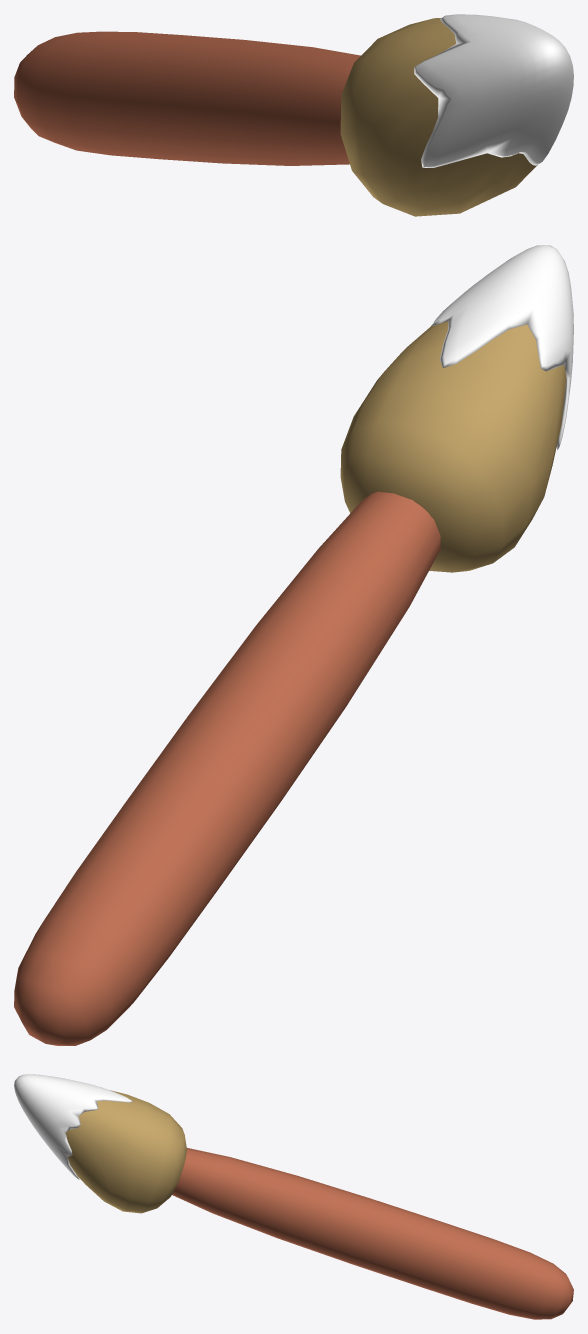
The model's file is paintbrush.fbx.
3 views of the same model, one above another, from view 1: azimuth 30°, elevation 25°; view 2: azimuth 150°, elevation 25°; view 3: azimuth 270°, elevation 25° (orthographic). The views are drawn at different scales.
Visible parts, largest first — view 1: brush_handle, brush_tip_001, brush_paint; view 2: brush_handle, brush_tip_001, brush_paint; view 3: brush_handle, brush_tip_001, brush_paint.
Boxes of the visible parts, left/top/right/bottom form: brush_handle: left=14, top=31, right=360, bottom=165; brush_tip_001: left=340, top=18, right=537, bottom=216; brush_paint: left=414, top=14, right=573, bottom=167; brush_handle: left=14, top=491, right=440, bottom=1045; brush_tip_001: left=340, top=321, right=566, bottom=572; brush_paint: left=431, top=245, right=573, bottom=450; brush_handle: left=172, top=1148, right=573, bottom=1319; brush_tip_001: left=65, top=1090, right=186, bottom=1213; brush_paint: left=14, top=1074, right=133, bottom=1179.
Size of the model in its own units: 18.96 by 45.77 by 96.34.
